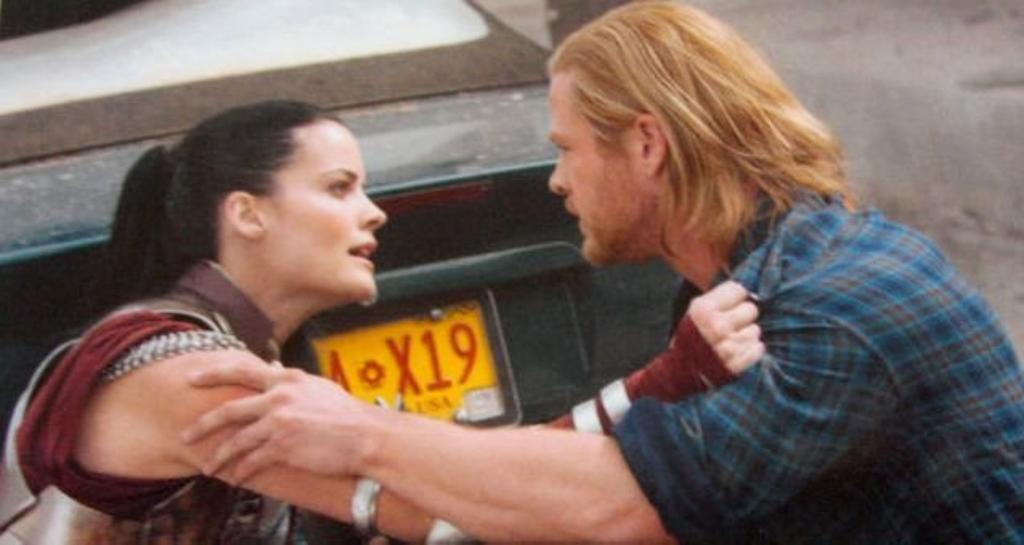face: (258, 120, 384, 314), (546, 56, 656, 254)
